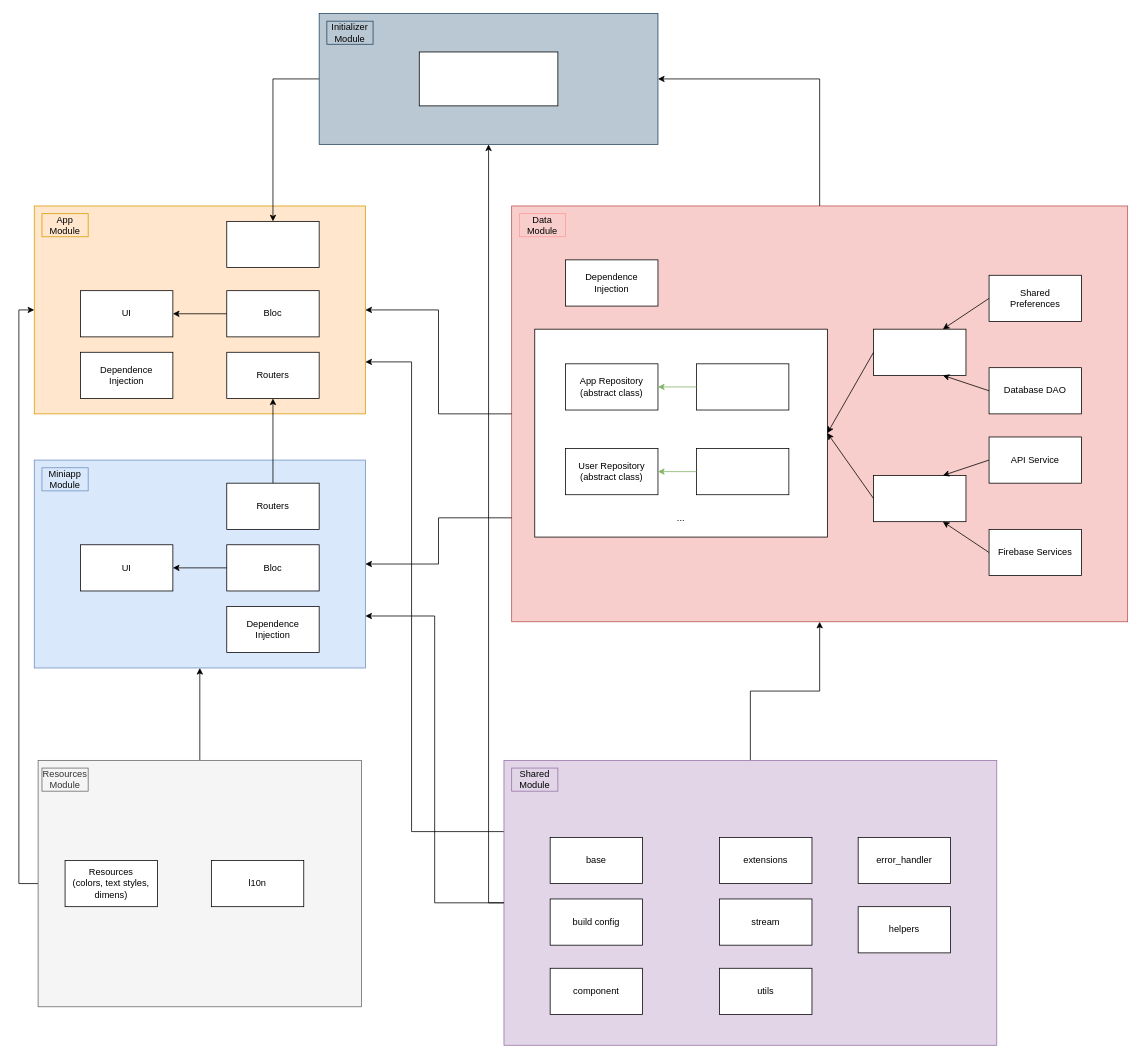
This 1141x1059 diagram has some shape labels left out. The centre of each missing label's shape, as x and y in pixels:
App Initializer: point (488, 78)
Local DataSource: point (919, 351)
main(): point (272, 244)
Remote DataSource: point (919, 498)
Repository Implementation: point (742, 386)
User Repository Implementation: point (742, 471)
